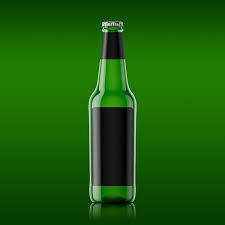Glass bottle: (77, 12, 151, 209)
